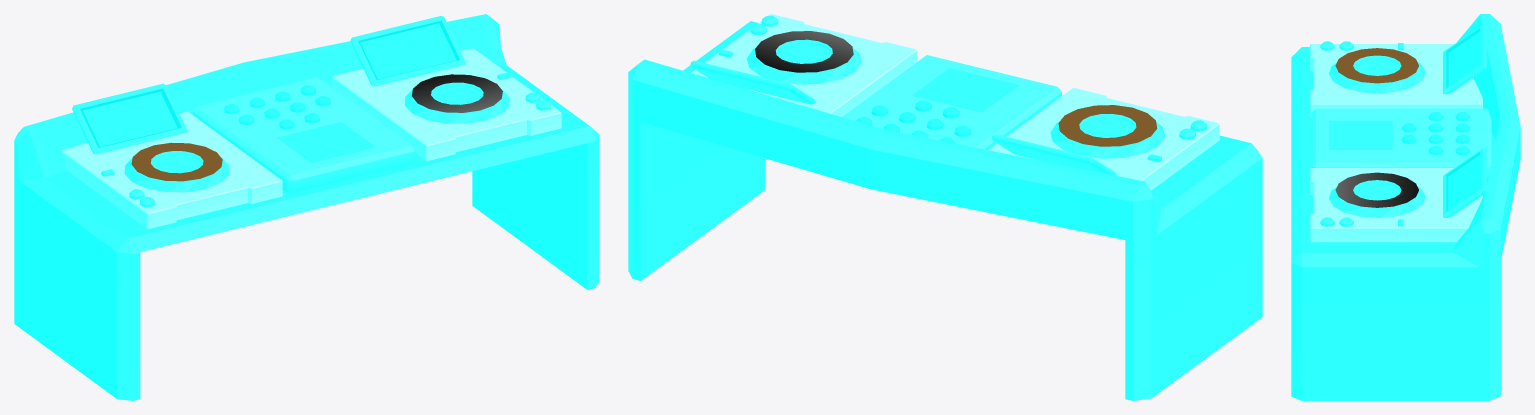
3 renders of one model, left to right at view 1: azimuth 30°, elevation 25°; view 2: azimuth 150°, elevation 25°; view 3: azimuth 270°, elevation 25°, orthographic. The views are drawn at different scales.
Parts seen in each view (by area): view 1: DJTable; view 2: DJTable; view 3: DJTable.
Boxes of the visible parts, <box> form: DJTable: <box>14,14,599,400</box>; DJTable: <box>628,14,1262,400</box>; DJTable: <box>1291,14,1520,400</box>.
Size of the model in its own units: 490 by 200 by 221.
